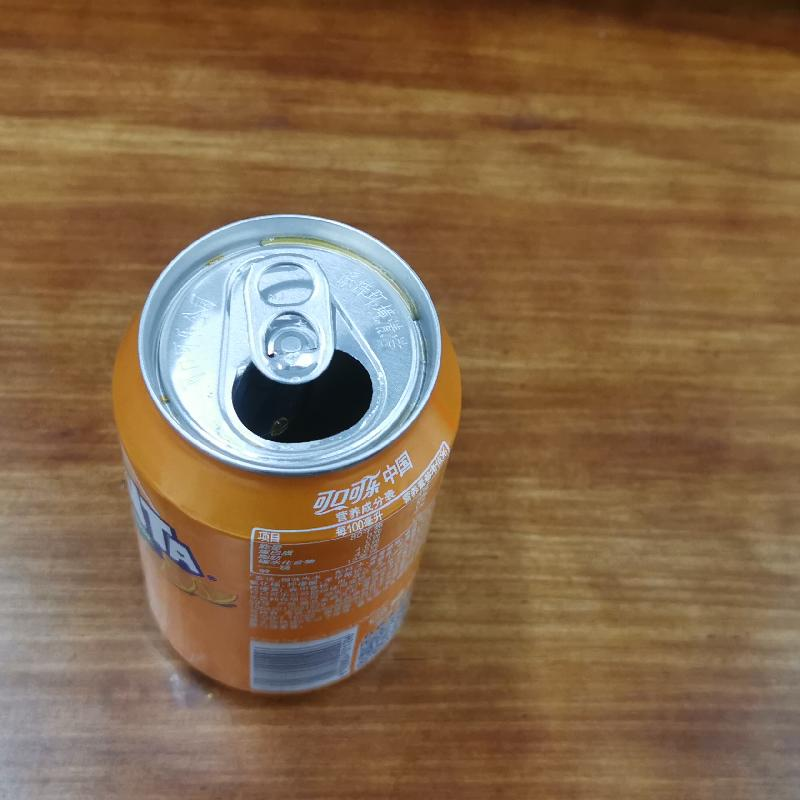cans: (108, 209, 467, 700)
